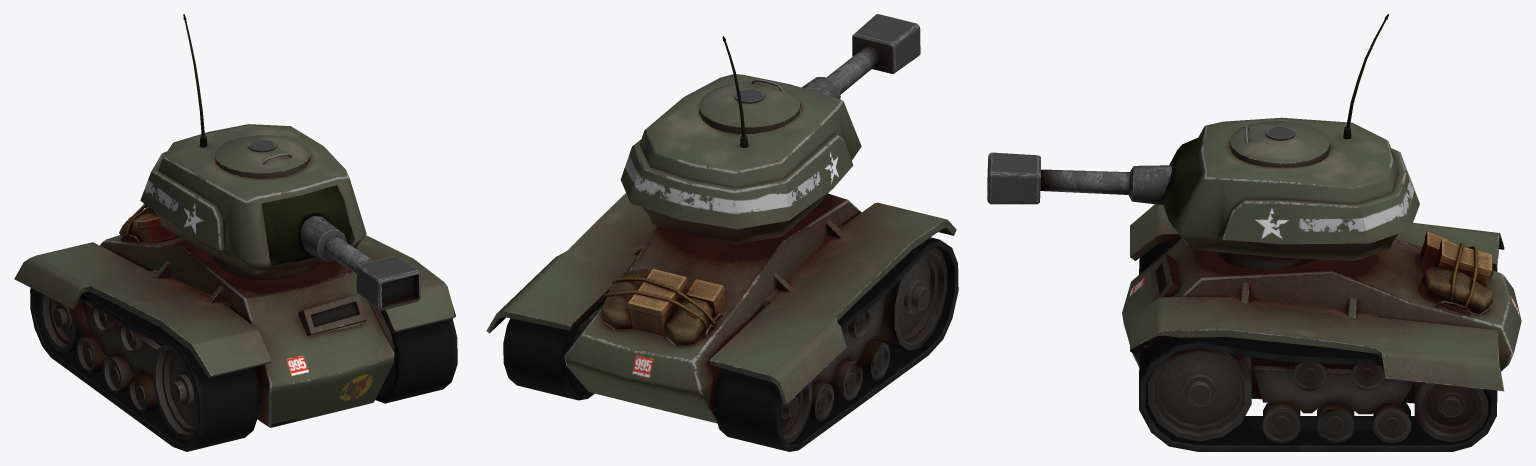
File: Tank_002.fbx
The picture shows the model from 3 angles, left to right: view 1: azimuth 30°, elevation 25°; view 2: azimuth 150°, elevation 25°; view 3: azimuth 270°, elevation 25°; orthographic projection. The views are drawn at different scales.
Parts seen in each view (by area): view 1: Body, Turret_Head, Tracks (×2), Wheels (×2), Gun_GEO, Turret_Pivot_GEO; view 2: Body, Turret_Head, Tracks (×2), Wheels, Gun_GEO; view 3: Body, Turret_Head, Wheels, Tracks, Gun_GEO, Turret_Pivot_GEO.
Boxes of the visible parts, <box> form: Body: <box>14,203,455,427</box>; Turret_Head: <box>121,14,366,274</box>; Tracks (×2): <box>30,288,457,451</box>; Wheels (×2): <box>40,293,395,441</box>; Gun_GEO: <box>299,215,420,310</box>; Turret_Pivot_GEO: <box>213,256,317,280</box>; Body: <box>486,193,956,423</box>; Turret_Head: <box>601,36,861,339</box>; Tracks (×2): <box>503,237,958,451</box>; Wheels: <box>780,247,947,442</box>; Gun_GEO: <box>801,14,920,99</box>; Body: <box>1122,204,1521,403</box>; Turret_Head: <box>1162,14,1471,316</box>; Wheels: <box>1148,348,1488,442</box>; Tracks: <box>1139,337,1497,451</box>; Gun_GEO: <box>987,152,1173,205</box>; Turret_Pivot_GEO: <box>1217,252,1315,270</box>.
Size of the model in its own units: 5.13 by 5.93 by 8.01.
